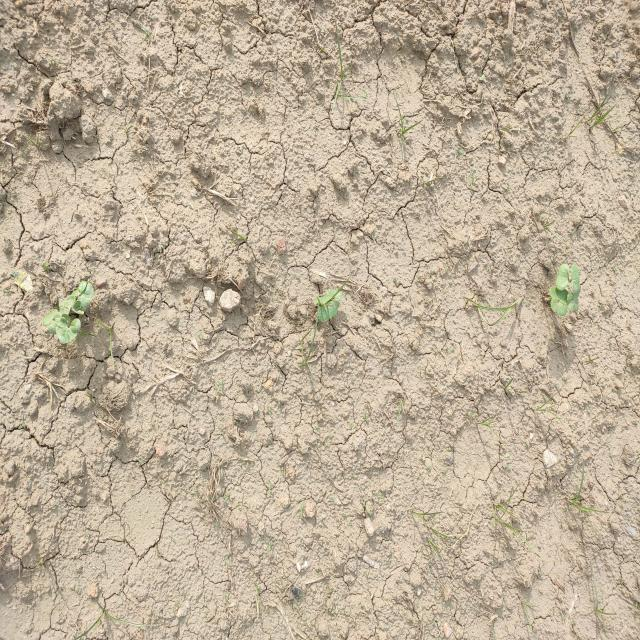seedling_s2: (58, 318, 81, 342), (77, 282, 94, 311), (318, 300, 337, 322), (555, 264, 570, 291), (59, 295, 75, 317), (55, 314, 71, 334), (551, 298, 567, 316), (571, 263, 580, 294), (49, 312, 61, 335), (42, 309, 58, 326), (71, 280, 87, 297), (549, 286, 567, 301), (573, 284, 581, 311), (315, 294, 332, 304), (567, 291, 575, 312), (326, 289, 342, 299), (72, 301, 84, 314)
